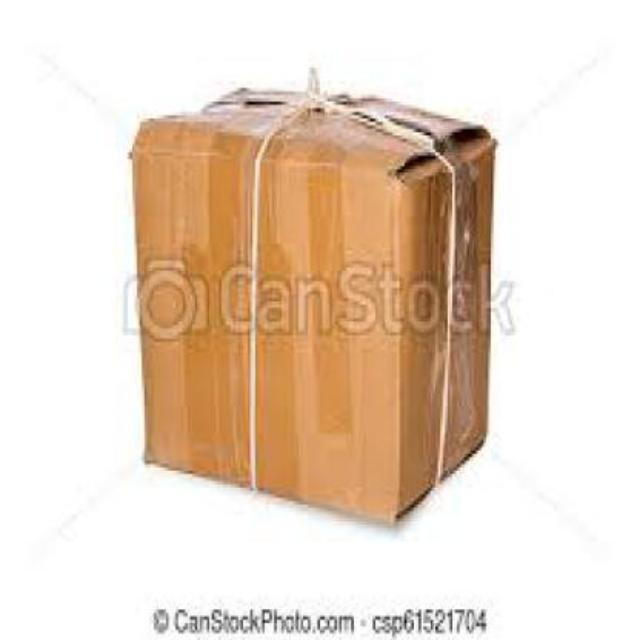cardboard_box: (122, 72, 528, 526)
